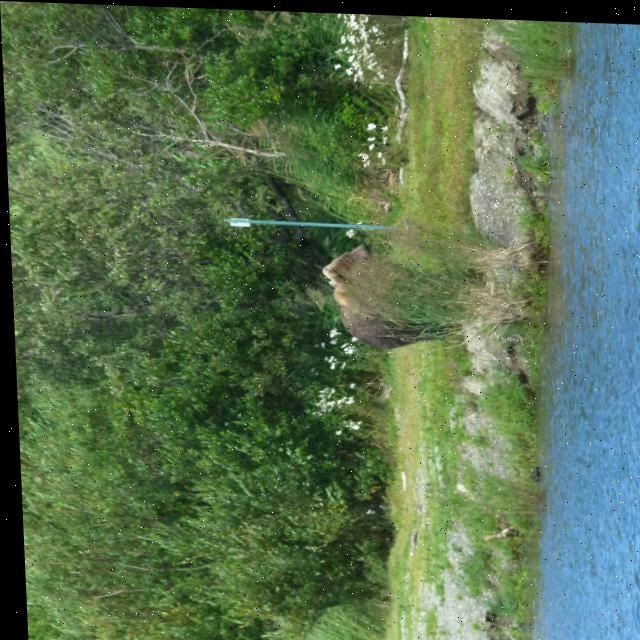bear face: (317, 238, 451, 346)
